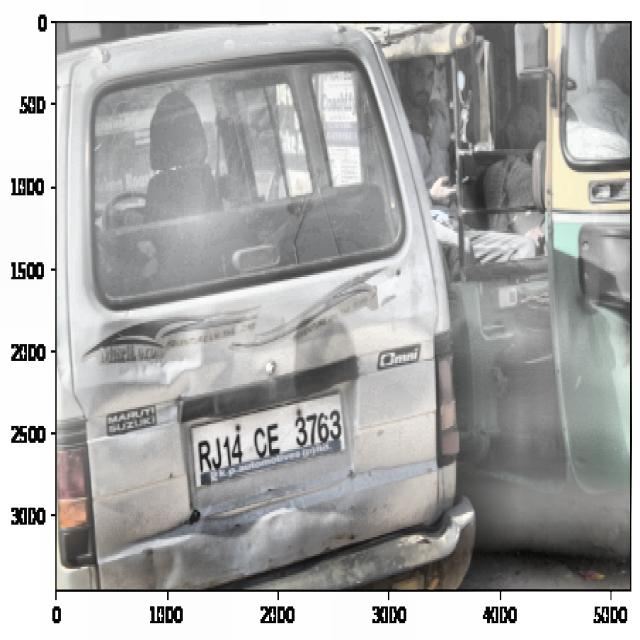license_plate: (195, 407, 348, 476)
